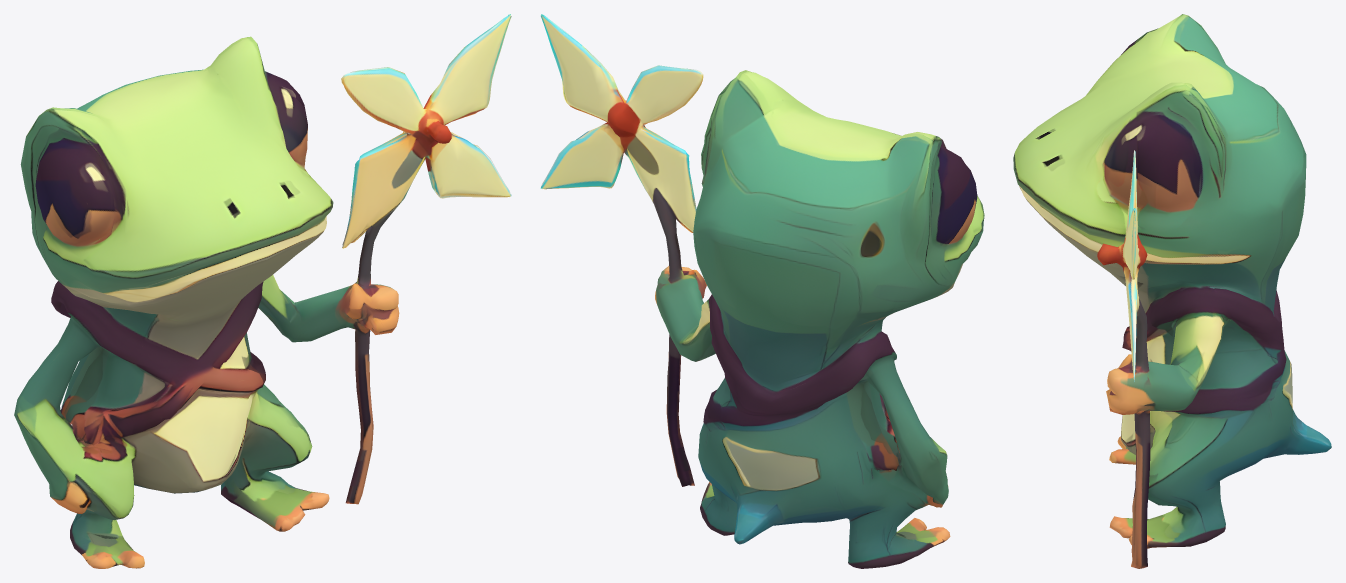
Rendered from froggie.glb.
3 renders of one model, left to right at view 1: azimuth 30°, elevation 25°; view 2: azimuth 150°, elevation 25°; view 3: azimuth 270°, elevation 25°, orthographic. The views are drawn at different scales.
Parts seen in each view (by area): view 1: model; view 2: model; view 3: model.
Boxes of the visible parts, bbox=[...] form: model: bbox=[14, 14, 511, 568]; model: bbox=[540, 14, 984, 568]; model: bbox=[1013, 14, 1331, 568].
Size of the model in its own units: 1.89 by 1.86 by 1.2.
1 material, 1 textured.
